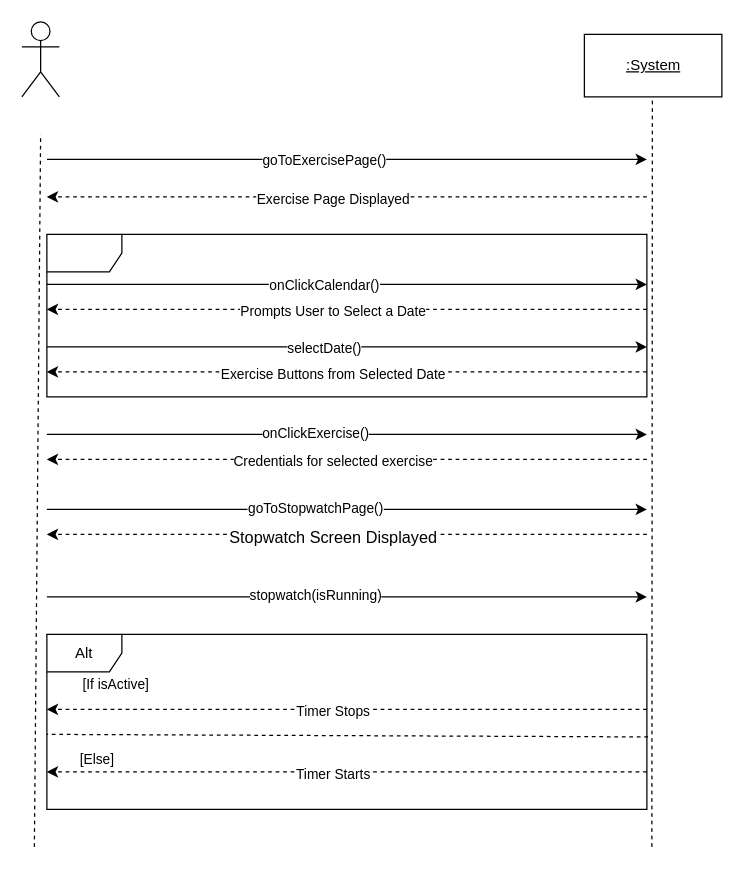
Image size: 744x870. Some labels were removed from this diagram. The centre of each missing label's shape, as x and y in pixels:
"Opt" belongs at point 346,315.
"User" belongs at point 40,59.
